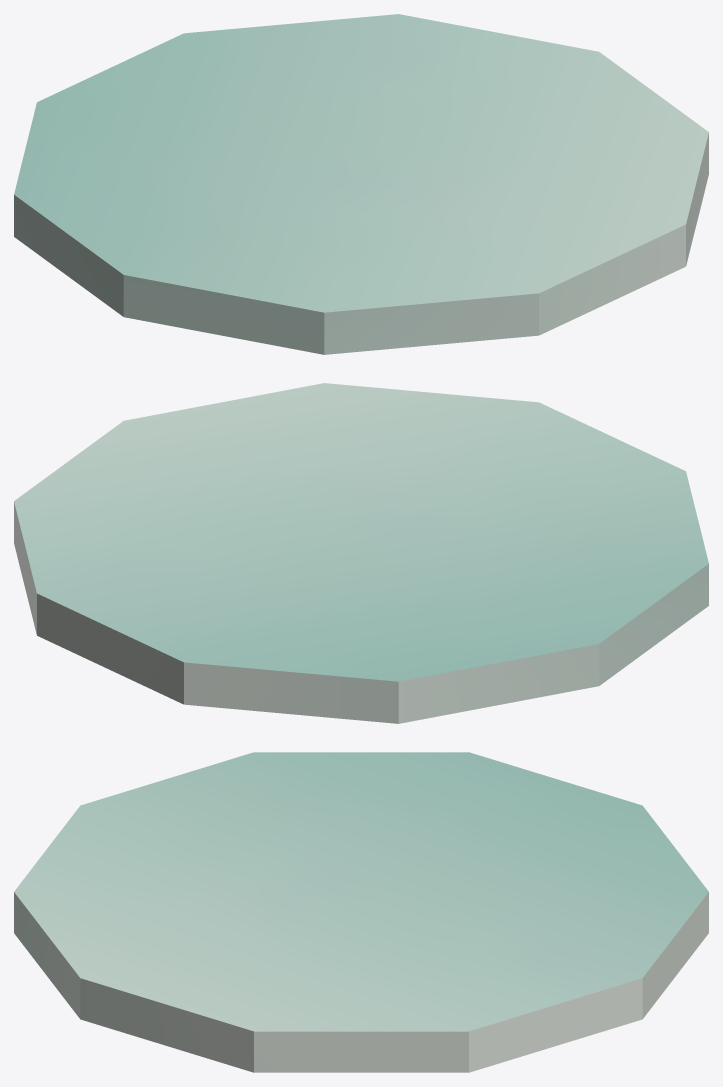
Rendered from winterGeks.fbx.
The picture shows the model from 3 angles, top to bottom: view 1: azimuth 30°, elevation 25°; view 2: azimuth 150°, elevation 25°; view 3: azimuth 270°, elevation 25°; orthographic projection. The views are drawn at different scales.
Visible parts, largest first — view 1: Icosphere; view 2: Icosphere; view 3: Icosphere.
Boxes of the visible parts, bbox=[...] form: Icosphere: bbox=[14, 14, 708, 354]; Icosphere: bbox=[14, 383, 708, 723]; Icosphere: bbox=[14, 752, 708, 1072].
Bounding box in the file's own units: 5483 × 378 × 5765.
Materials: 1 (1 with a texture image).
